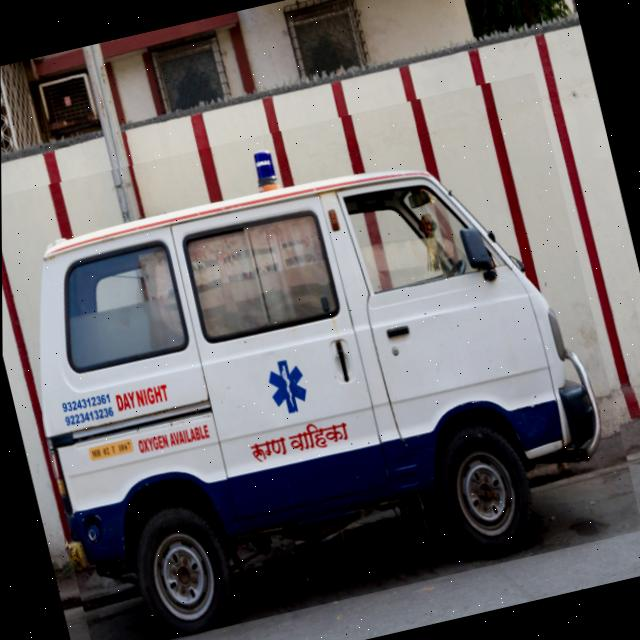Ambulance: (0, 72, 640, 640)
